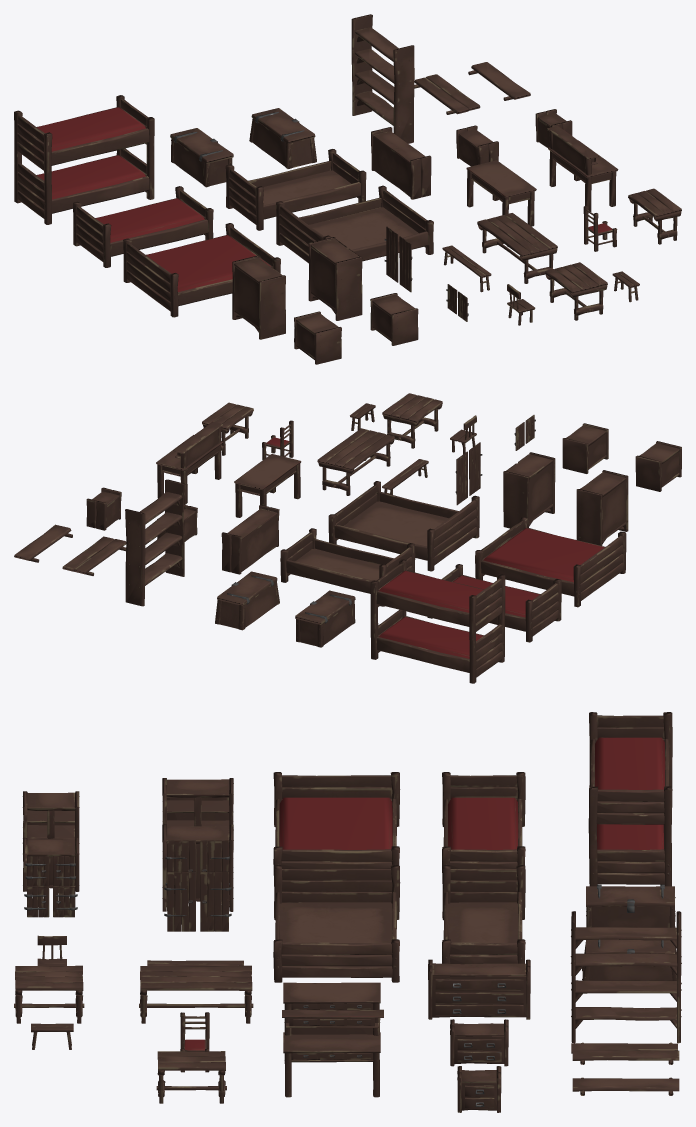
File: furniture_set.fbx
3 renders of one model, top to bottom at view 1: azimuth 30°, elevation 25°; view 2: azimuth 150°, elevation 25°; view 3: azimuth 270°, elevation 25°, orthographic. The views are drawn at different scales.
Visible parts, largest first — view 1: bunBedWithSheets, doubleBedWithSheets, doubleBedNoSheets, singleBedWithSheets, singleBedNoSheets, shelf, wardrobeBig, wardRobeBigNoDoors, cabinetBig, chest00, writingTableBig, tableBig (+14 smaller); view 2: bunBedWithSheets, doubleBedNoSheets, doubleBedWithSheets, shelf, singleBedNoSheets, wardRobeBigNoDoors, wardrobeBig, singleBedWithSheets, cabinetBig, chest00, writingTableBig, tableBig (+15 smaller); view 3: bunBedWithSheets, doubleBedNoSheets, doubleBedWithSheets, singleBedNoSheets, singleBedWithSheets, shelf, cabinetBig, writingTableBig, wardrobeBig, chest01, tableBig, blindsBig (+14 smaller).
Part boxes in pixels (x1,y1,x2,y2): bunBedWithSheets: [14, 95, 154, 224]; doubleBedWithSheets: [123, 223, 280, 317]; doubleBedNoSheets: [276, 185, 433, 263]; singleBedWithSheets: [73, 186, 213, 267]; singleBedNoSheets: [225, 149, 366, 230]; shelf: [351, 14, 414, 143]; wardrobeBig: [308, 237, 362, 320]; wardRobeBigNoDoors: [232, 255, 285, 339]; cabinetBig: [371, 127, 431, 199]; chest00: [249, 108, 316, 168]; writingTableBig: [547, 126, 618, 211]; tableBig: [477, 213, 557, 283]; bunBedWithSheets: [370, 559, 505, 683]; doubleBedNoSheets: [328, 481, 479, 571]; doubleBedWithSheets: [475, 516, 626, 607]; shelf: [125, 479, 185, 606]; singleBedNoSheets: [280, 528, 415, 606]; wardRobeBigNoDoors: [576, 470, 628, 545]; wardrobeBig: [503, 452, 555, 528]; singleBedWithSheets: [427, 564, 561, 642]; cabinetBig: [221, 505, 279, 574]; chest00: [215, 571, 279, 630]; writingTableBig: [156, 421, 223, 504]; tableBig: [317, 428, 394, 495]; bunBedWithSheets: [588, 712, 672, 886]; doubleBedNoSheets: [273, 865, 400, 982]; doubleBedWithSheets: [273, 772, 400, 886]; singleBedNoSheets: [442, 865, 525, 964]; singleBedWithSheets: [442, 772, 525, 883]; shelf: [570, 911, 681, 1043]; cabinetBig: [428, 959, 530, 1019]; writingTableBig: [282, 1009, 383, 1097]; wardrobeBig: [162, 824, 233, 911]; chest01: [586, 884, 675, 927]; tableBig: [139, 965, 253, 1023]; blindsBig: [164, 871, 231, 931].
Size of the model in its own units: 1646 by 321 by 1593.
